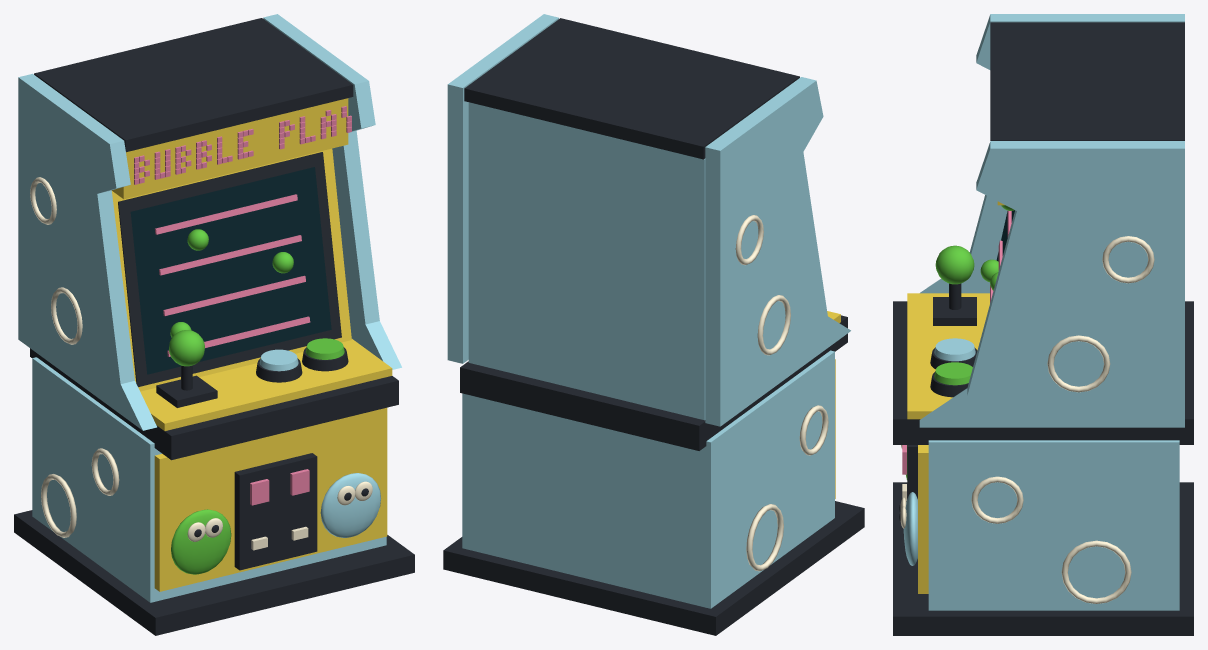
File: arcade-machine.glb
3 renders of one model, left to right at view 1: azimuth 30°, elevation 25°; view 2: azimuth 150°, elevation 25°; view 3: azimuth 270°, elevation 25°, orthographic. The views are drawn at different scales.
Parts seen in each view (by area): view 1: Bubble arcade; view 2: Bubble arcade; view 3: Bubble arcade.
Part boxes in pixels (x1,y1,x2,y2): Bubble arcade: (14,14,414,635); Bubble arcade: (443,14,864,635); Bubble arcade: (893,14,1193,635).
Bounding box in the file's own units: 1.85 × 3.04 × 1.7.
